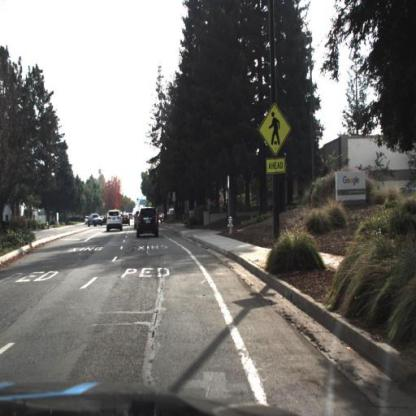car: (136, 207, 161, 240), (106, 208, 124, 236), (87, 214, 103, 231)
